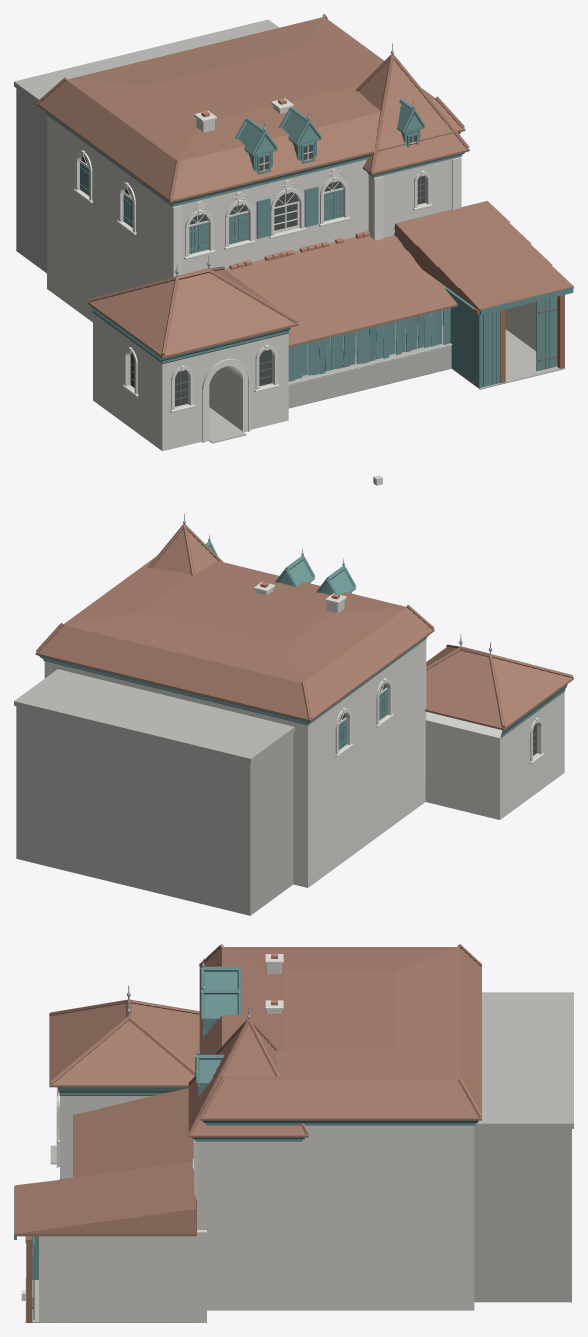
The model's file is AR_Assepoester_v1.fbx.
3 views of the same model, one above another, from view 1: azimuth 30°, elevation 25°; view 2: azimuth 150°, elevation 25°; view 3: azimuth 270°, elevation 25° (orthographic). The views are drawn at different scales.
Parts seen in each view (by area): view 1: static__MAT_pannen_0, static__MAT_stuc_0, static__MAT_groen_0, static__MAT_omlijsting_0, static__MAT_achter_0, static__MAT_plint_0, static__MAT_glas_0, static__MAT_hout_0, static__MAT_kozijn_0, static__MAT_lood_0, static__MAT_baksteen_0; view 2: static__MAT_achter_0, static__MAT_pannen_0, static__MAT_stuc_0, static__MAT_groen_0, static__MAT_omlijsting_0; view 3: static__MAT_pannen_0, static__MAT_stuc_0, static__MAT_achter_0, static__MAT_groen_0, static__MAT_omlijsting_0, static__MAT_plint_0, static__MAT_hout_0.
Part boxes in pixels (<box>): static__MAT_pannen_0: <box>37,14,573,358</box>; static__MAT_stuc_0: <box>47,106,536,451</box>; static__MAT_groen_0: <box>43,99,573,387</box>; static__MAT_omlijsting_0: <box>73,98,461,442</box>; static__MAT_achter_0: <box>14,19,278,273</box>; static__MAT_plint_0: <box>209,329,565,443</box>; static__MAT_glas_0: <box>81,135,425,406</box>; static__MAT_hout_0: <box>474,295,564,383</box>; static__MAT_kozijn_0: <box>80,136,416,233</box>; static__MAT_lood_0: <box>81,164,557,405</box>; static__MAT_baksteen_0: <box>201,98,369,269</box>; static__MAT_achter_0: <box>14,669,294,915</box>; static__MAT_pannen_0: <box>35,524,573,730</box>; static__MAT_stuc_0: <box>44,588,564,887</box>; static__MAT_groen_0: <box>39,541,567,749</box>; static__MAT_omlijsting_0: <box>253,582,544,778</box>; static__MAT_pannen_0: <box>14,944,482,1236</box>; static__MAT_stuc_0: <box>39,964,474,1322</box>; static__MAT_achter_0: <box>474,992,573,1302</box>; static__MAT_groen_0: <box>14,966,478,1319</box>; static__MAT_omlijsting_0: <box>56,954,283,1229</box>; static__MAT_plint_0: <box>25,1145,195,1322</box>; static__MAT_hout_0: <box>25,1236,32,1322</box>.
Size of the model in its own units: 12.57 by 10.15 by 14.56.
